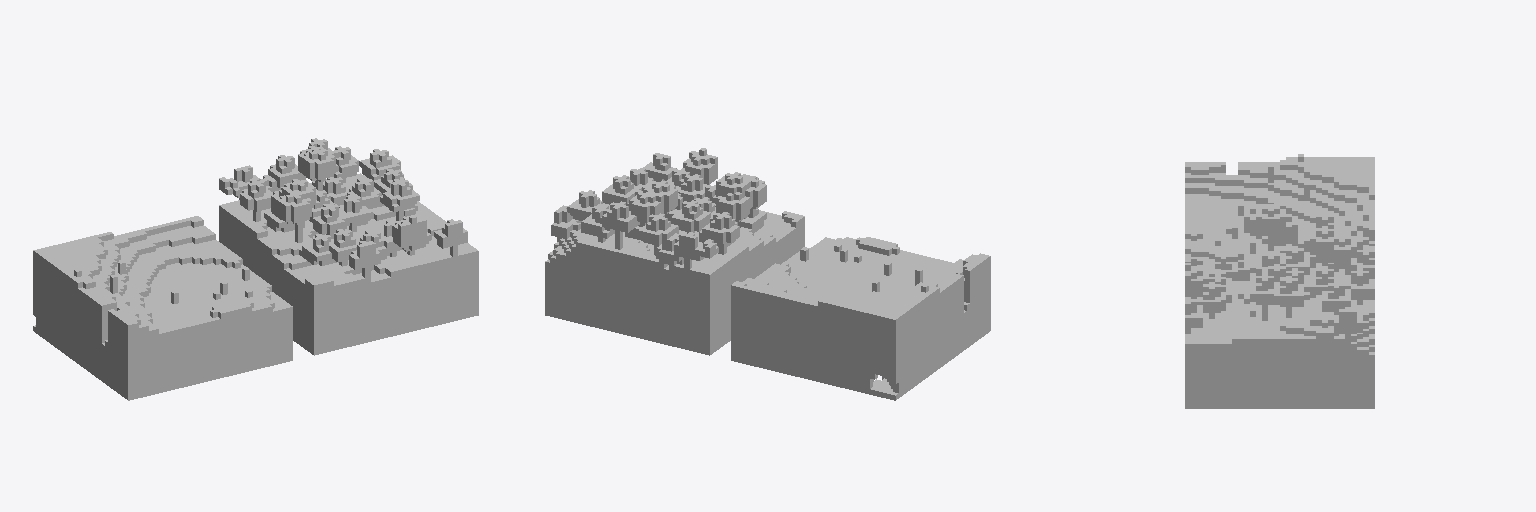
The model's file is desert-forest.obj.
The picture shows the model from 3 angles: view 1: azimuth 30°, elevation 25°; view 2: azimuth 150°, elevation 25°; view 3: azimuth 270°, elevation 25°; orthographic projection.
Visible parts, largest first — view 1: Honors_World__76_127_207_to_143_177_238; view 2: Honors_World__76_127_207_to_143_177_238; view 3: Honors_World__76_127_207_to_143_177_238.
Boxes of the visible parts, box(x1,y1,x2,y2) form: Honors_World__76_127_207_to_143_177_238: box(33, 138, 478, 400); Honors_World__76_127_207_to_143_177_238: box(545, 148, 990, 400); Honors_World__76_127_207_to_143_177_238: box(1185, 154, 1374, 408).
Size of the model in its own units: 68 by 25 by 32.